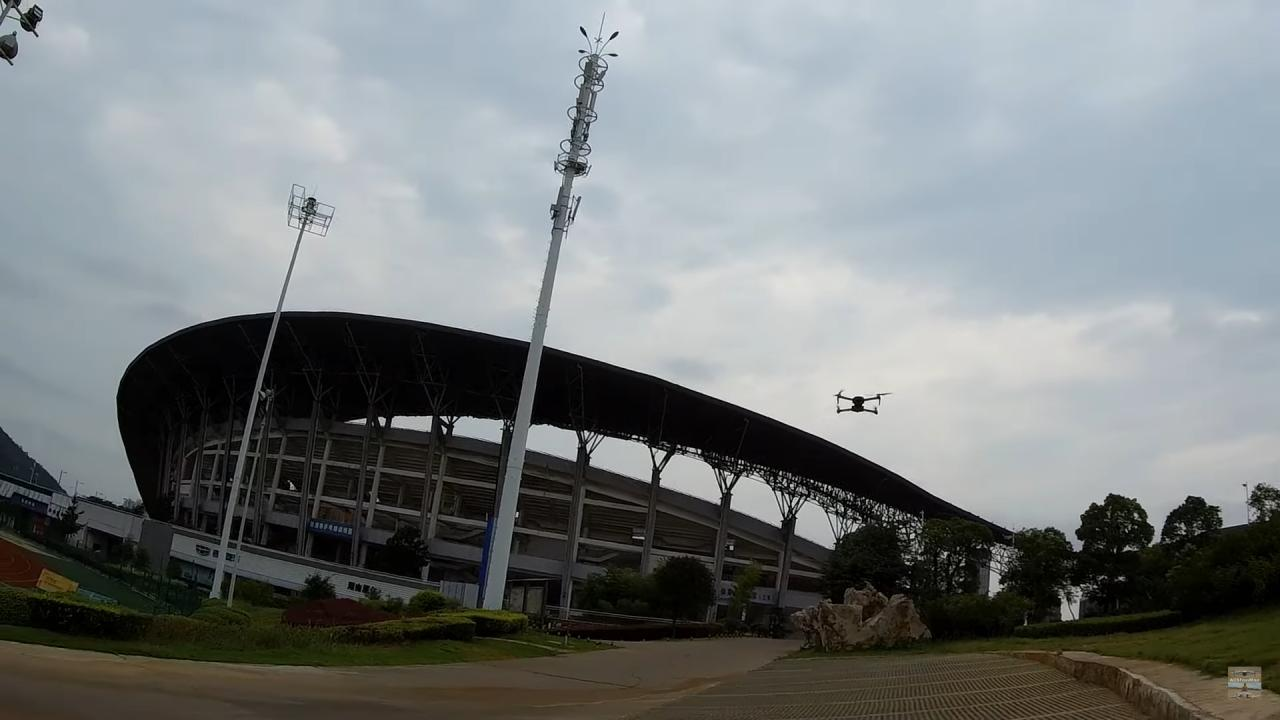Drone: (822, 381, 895, 423)
